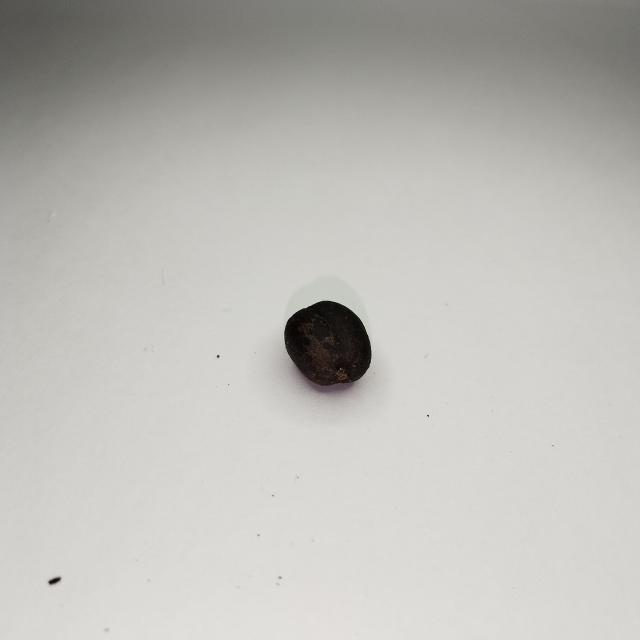Danado: (285, 301, 370, 384)
